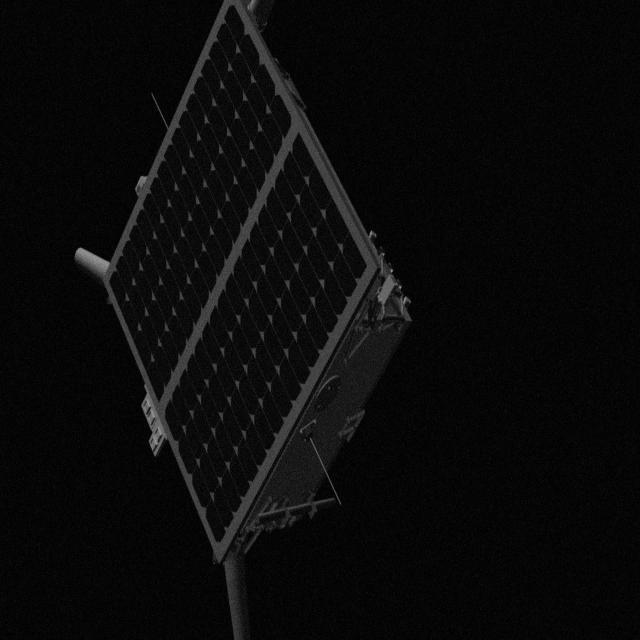medium_debris: (68, 0, 424, 638)
